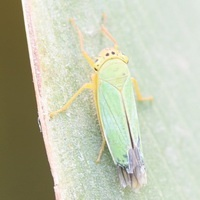insect: (49, 13, 152, 189)
